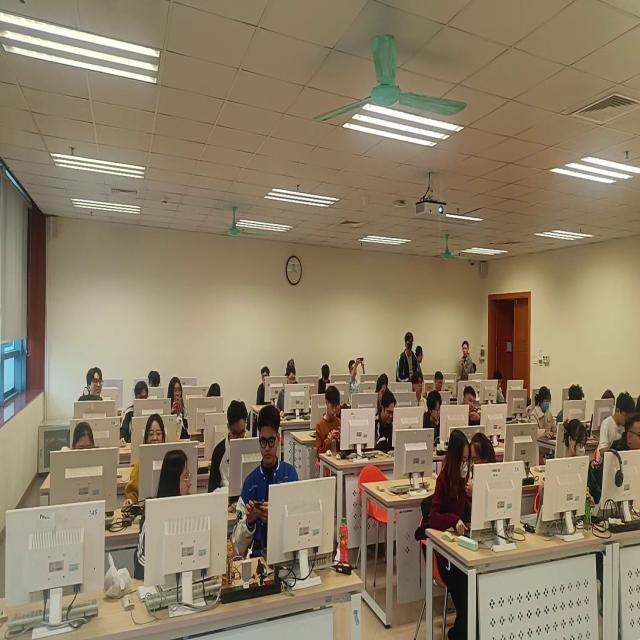raise_head: (78, 368, 104, 402), (411, 373, 428, 409), (285, 360, 296, 377)
stand: (397, 332, 418, 383), (461, 341, 478, 381), (416, 345, 425, 382)
using_computer: (121, 414, 167, 511), (208, 401, 249, 494), (596, 394, 635, 463), (120, 381, 150, 448), (531, 387, 559, 441), (375, 391, 398, 450), (558, 384, 586, 428), (610, 411, 640, 451), (423, 391, 444, 447), (277, 366, 297, 420), (563, 416, 588, 458), (462, 386, 482, 427), (72, 423, 96, 451), (493, 370, 506, 404), (375, 378, 387, 411), (319, 365, 332, 395), (600, 388, 616, 412), (207, 384, 222, 398), (435, 371, 445, 392), (149, 371, 161, 388), (637, 394, 640, 417)
using_phone: (233, 406, 301, 562), (317, 386, 342, 457), (168, 377, 191, 440), (350, 355, 367, 400)
